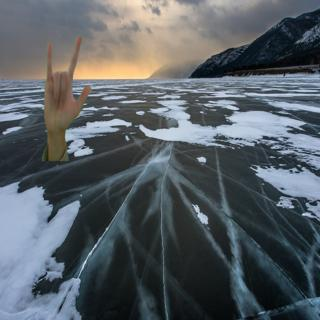ILY: (40, 34, 94, 135)
